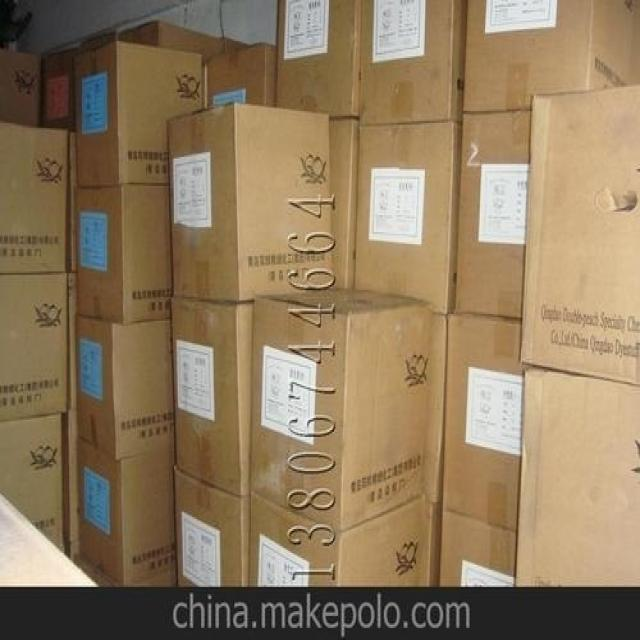box: (251, 287, 435, 531), (518, 84, 640, 387), (165, 102, 333, 299), (515, 365, 640, 587), (355, 121, 462, 317), (462, 0, 640, 114), (74, 39, 202, 183), (443, 314, 524, 536), (250, 490, 424, 589), (170, 297, 253, 497), (454, 106, 531, 321), (76, 435, 178, 585), (76, 314, 174, 457), (74, 183, 173, 324), (358, 0, 467, 123), (0, 123, 68, 273), (276, 0, 361, 119), (0, 273, 67, 423), (0, 411, 67, 556), (175, 471, 250, 589), (77, 20, 252, 65), (440, 507, 518, 587), (326, 113, 358, 288), (202, 41, 278, 109), (422, 314, 445, 502), (1, 48, 41, 126), (40, 51, 78, 131), (64, 408, 79, 556), (420, 497, 443, 585), (67, 130, 79, 271), (65, 271, 77, 410)
